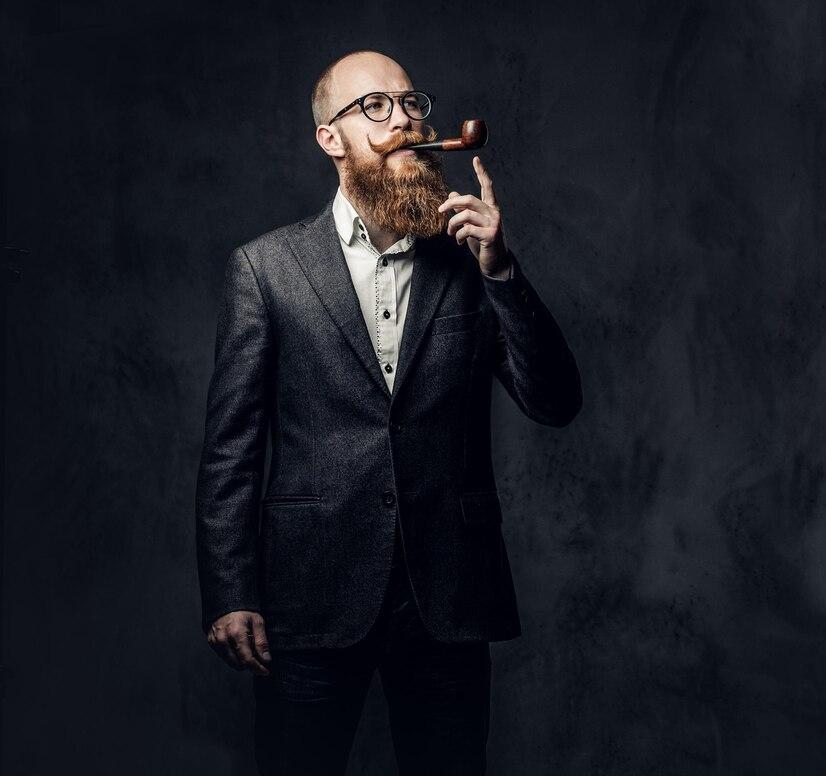trubka: (405, 120, 488, 151)
